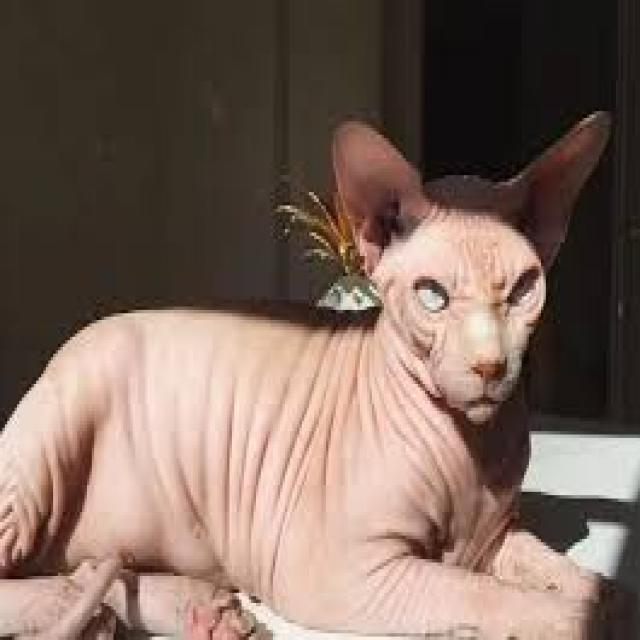cat: (70, 97, 640, 592)
